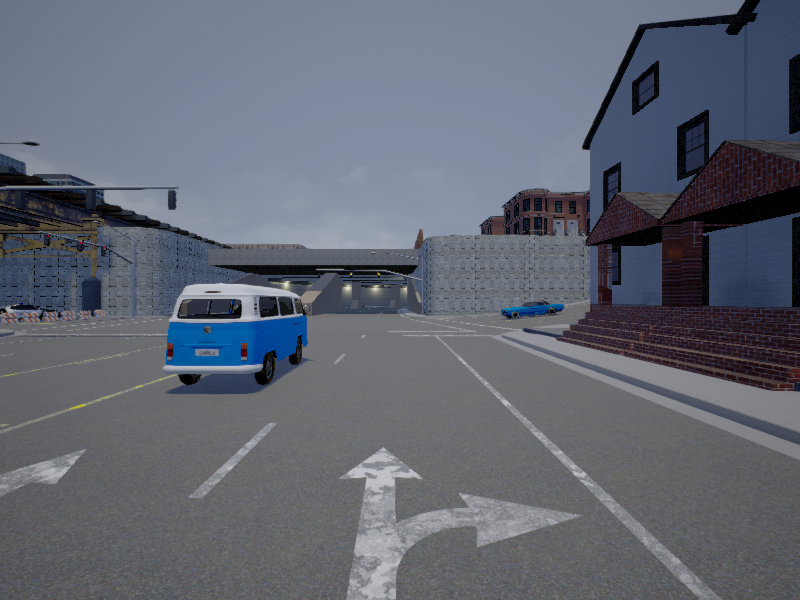Benign: (162, 284, 309, 387), (504, 300, 565, 319)
